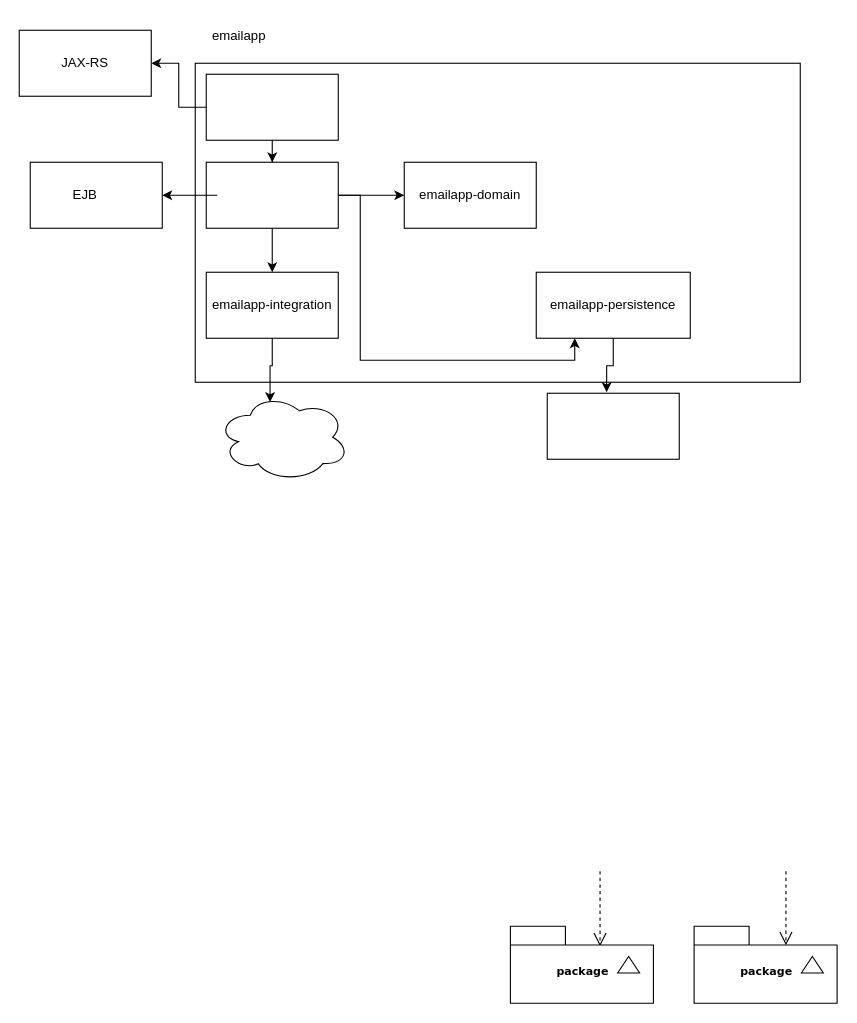
Some shapes in this 857 by 1023 pixel diagram are drawn without their labels. Here are the shapes that lost their labels. From the top down, the box of each, then its label:
(205, 73, 338, 140): emailapp-rest
(205, 161, 338, 228): emailapp-service
(216, 392, 349, 481): viacep
(546, 392, 679, 459): JPA
